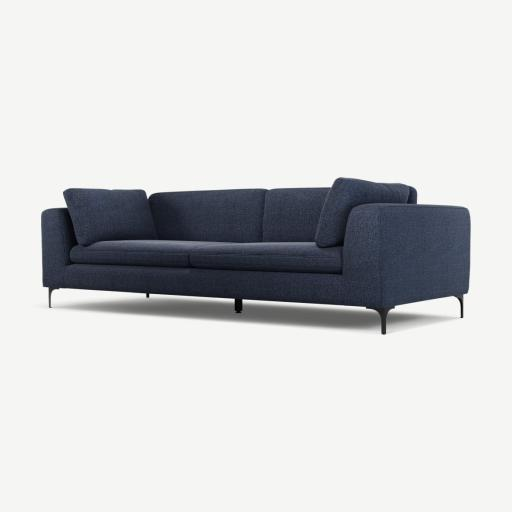back_cushion: (149, 188, 328, 242)
base: (52, 264, 377, 306)
left_arm: (343, 205, 470, 305)
legs: (369, 306, 395, 335), (48, 287, 60, 308), (455, 295, 463, 318), (234, 298, 242, 314), (145, 293, 150, 298)
right_arm: (42, 209, 76, 297)
seat_cushion: (71, 240, 342, 274)
two-seater: (0, 0, 511, 512)
